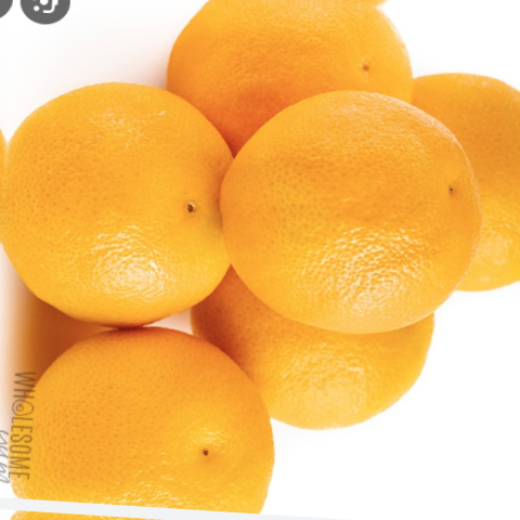orange: (210, 73, 488, 358), (0, 62, 253, 373), (6, 315, 324, 520)
